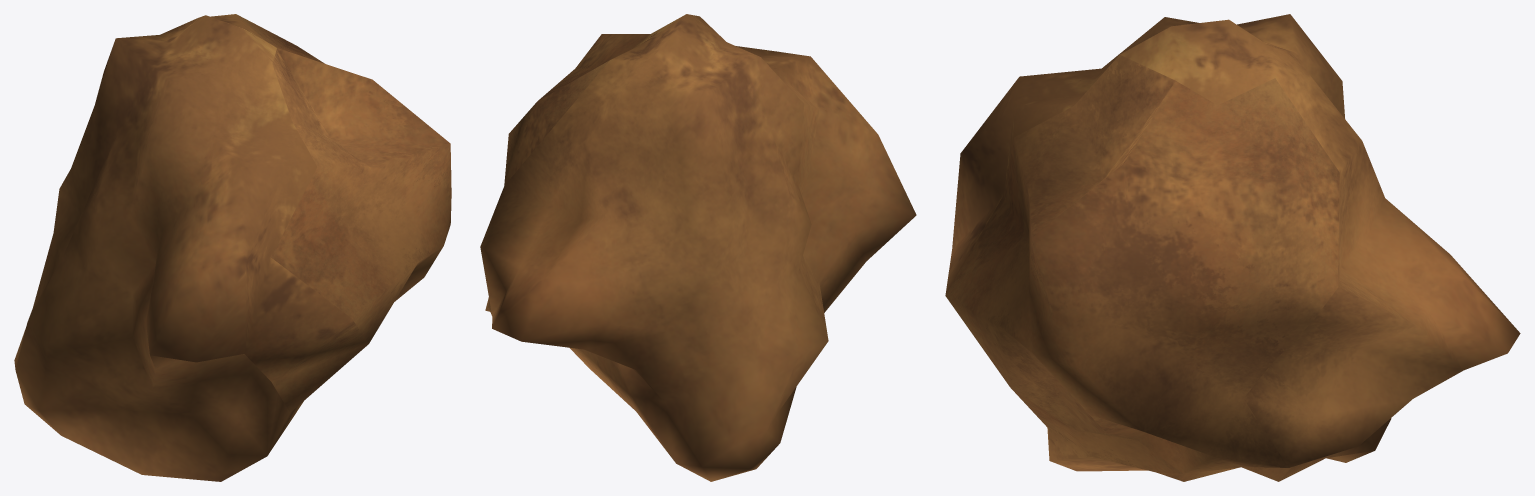
The model's file is rock2.fbx.
The picture shows the model from 3 angles, left to right: view 1: azimuth 30°, elevation 25°; view 2: azimuth 150°, elevation 25°; view 3: azimuth 270°, elevation 25°; orthographic projection. The views are drawn at different scales.
Parts seen in each view (by area): view 1: rock2; view 2: rock2; view 3: rock2.
Boxes of the visible parts, x1,y1,x2,y2 form: rock2: [14, 14, 451, 481]; rock2: [480, 14, 916, 481]; rock2: [945, 14, 1520, 481].
Bounding box in the file's own units: 2.45 × 2.91 × 3.03.
